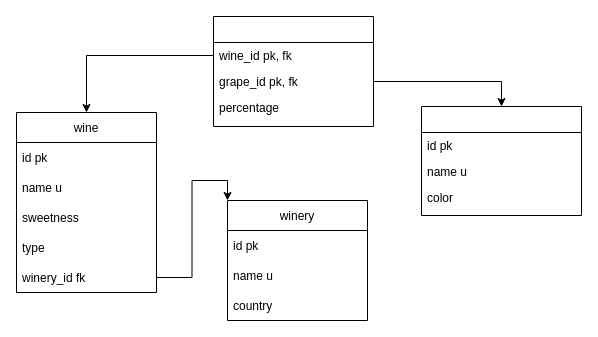
This 598x337 diagram has some shape labels left out. Here are the shapes that lost their labels. From the top down, the box of each, then its label:
(212, 16, 374, 126): contains
(420, 106, 582, 216): grape
